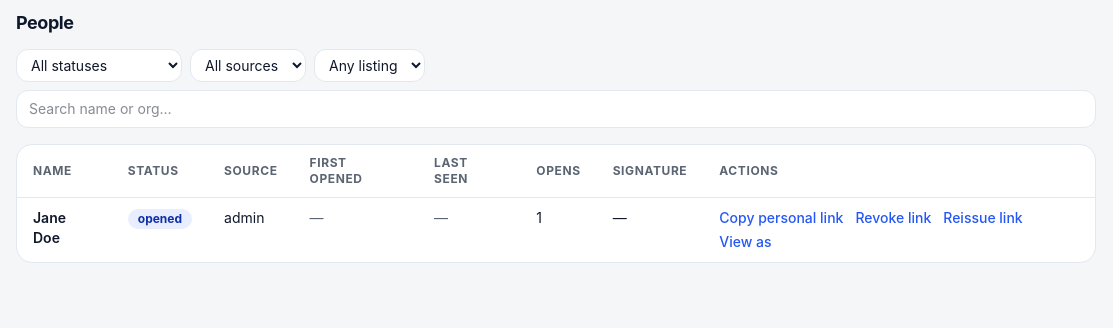
it: PeopleScreen — tokens never render except after an explicit action › shows no token until 'Copy personal link' is clicked
Expected: the text "Jane Doe" is shown, [17,198,112,262]
Expected: the text "TotallySecretToken1234567890" is not shown
Click the button "Copy personal link": x=781, y=218 [719,208,843,228]
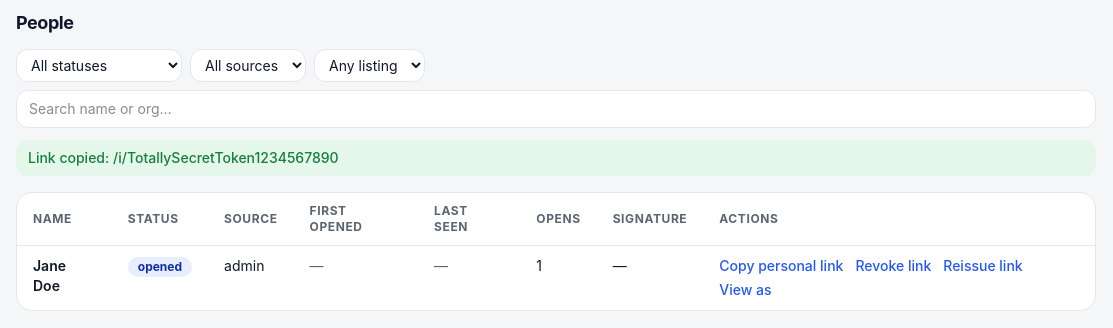
Expected: the text "TotallySecretToken1234567890" is shown, [28,149,339,166]
